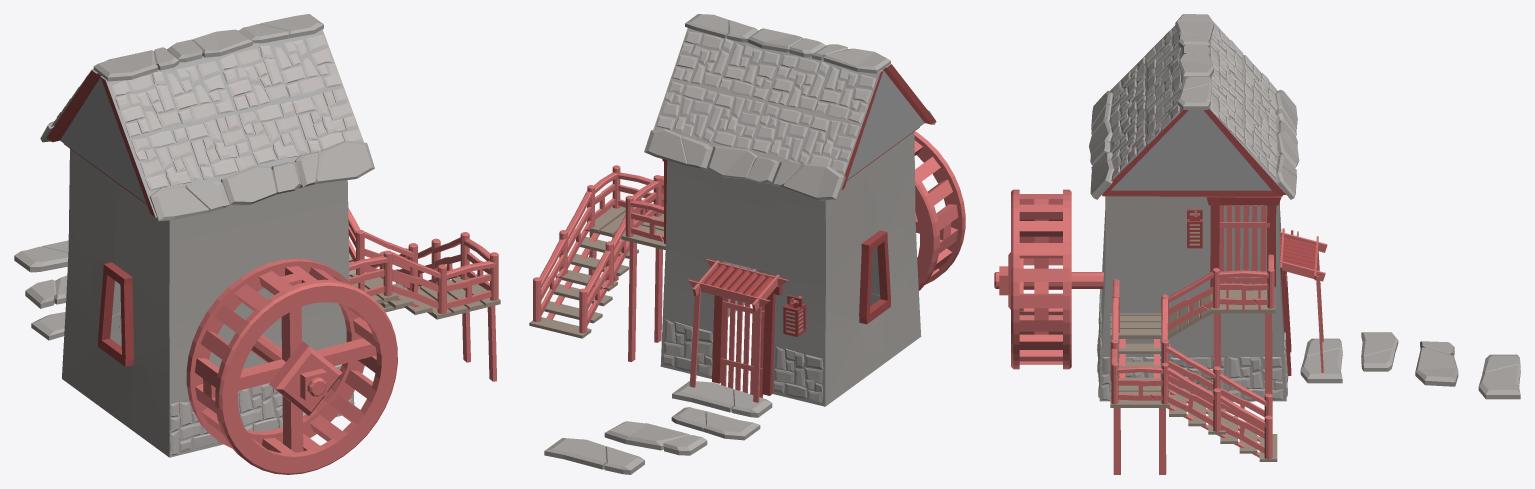
File: ER_Asset_WaterMill.fbx
3 views of the same model, side by side, from view 1: azimuth 30°, elevation 25°; view 2: azimuth 150°, elevation 25°; view 3: azimuth 270°, elevation 25° (orthographic). The views are drawn at different scales.
Visible parts, largest first — view 1: polySurface4209, polySurface4256; view 2: polySurface4209, polySurface4256; view 3: polySurface4209, polySurface4256.
Part boxes in pixels (x1=…): polySurface4209: x1=14, y1=14, x2=500, y2=457; polySurface4256: x1=186, y1=258, x2=397, y2=474; polySurface4209: x1=529, y1=14, x2=936, y2=474; polySurface4256: x1=914, y1=131, x2=965, y2=290; polySurface4209: x1=1089, y1=14, x2=1520, y2=474; polySurface4256: x1=994, y1=189, x2=1103, y2=369.
Size of the model in its own units: 7.47 by 7.28 by 11.03.
